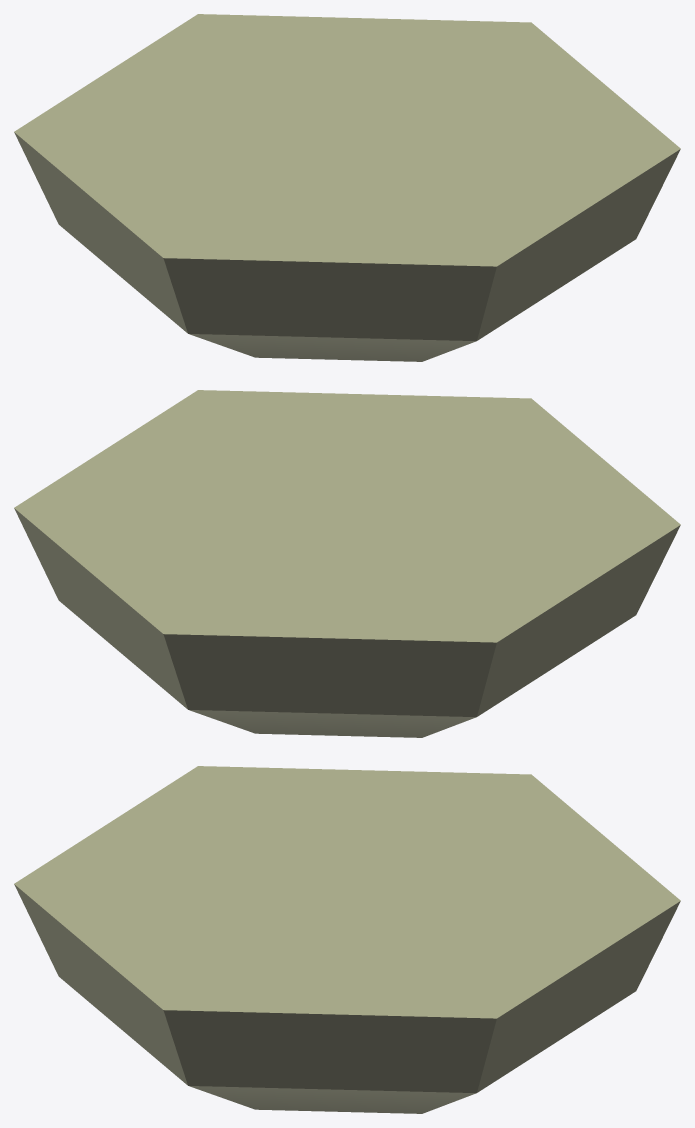
The model's file is candleDish_9.glb.
3 views of the same model, one above another, from view 1: azimuth 30°, elevation 25°; view 2: azimuth 150°, elevation 25°; view 3: azimuth 270°, elevation 25° (orthographic).
Visible parts, largest first — view 1: candleDish; view 2: candleDish; view 3: candleDish.
Boxes of the visible parts, x1=… form: candleDish: x1=14, y1=14, x2=680, y2=361; candleDish: x1=14, y1=390, x2=680, y2=737; candleDish: x1=14, y1=766, x2=680, y2=1113.
Size of the model in its own units: 0.2475 by 0.0836 by 0.2762.
